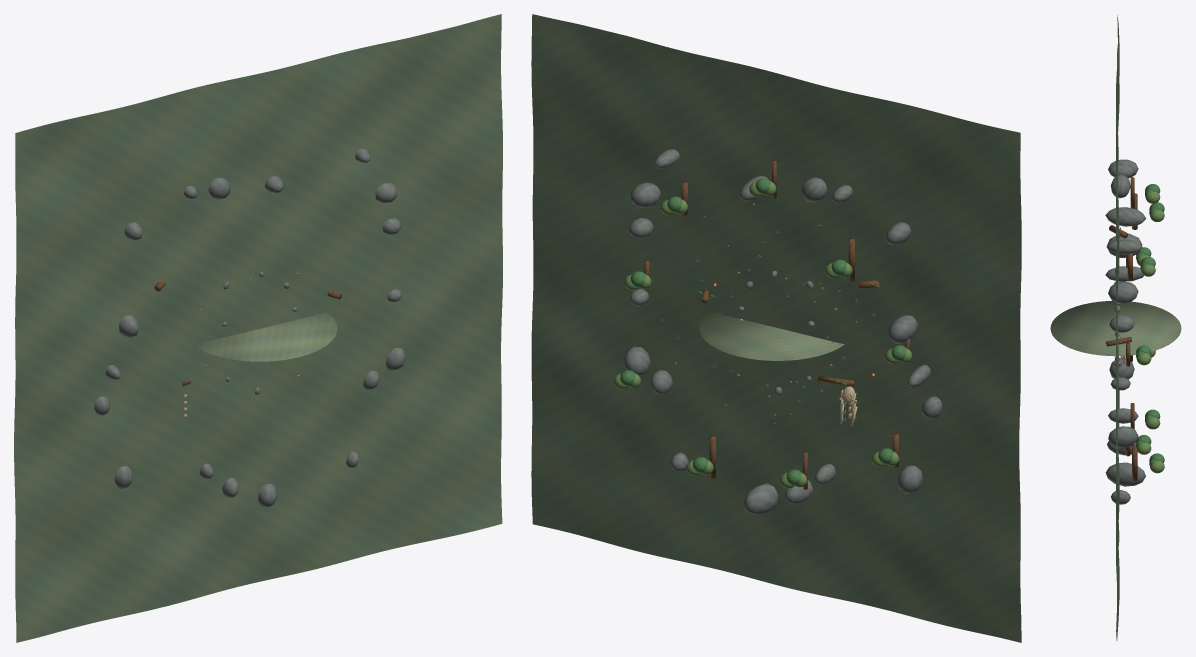
File: hunting_ground.glb
3 views of the same model, side by side, from view 1: azimuth 30°, elevation 25°; view 2: azimuth 150°, elevation 25°; view 3: azimuth 270°, elevation 25° (orthographic). The views are drawn at different scales.
Parts seen in each view (by area): view 1: terrain_ring, arena_soil_disc; view 2: terrain_ring, arena_soil_disc, boulder_14; view 3: arena_soil_disc, terrain_ring, boulder_14, boulder_4, boulder_2, boulder_17, boulder_3, boulder_9, boulder_11, boulder_5, boulder_1, boulder_12 (+3 smaller).
Part boxes in pixels (box(x1,y1,x2,y2)): terrain_ring: box(14, 14, 502, 642); arena_soil_disc: box(192, 312, 337, 361); terrain_ring: box(531, 14, 1021, 642); arena_soil_disc: box(699, 311, 844, 360); boulder_14: box(744, 483, 778, 515); arena_soil_disc: box(1050, 301, 1181, 356); terrain_ring: box(1116, 15, 1119, 640); boulder_14: box(1105, 462, 1145, 486); boulder_4: box(1105, 207, 1145, 226); boulder_2: box(1108, 281, 1138, 303); boulder_17: box(1108, 426, 1138, 448); boulder_3: box(1106, 239, 1142, 253); boulder_9: box(1105, 266, 1143, 281); boulder_11: box(1109, 357, 1134, 379); boulder_5: box(1110, 174, 1130, 198); boulder_1: box(1109, 315, 1134, 332); boulder_12: box(1108, 408, 1138, 423).
Bounding box in the file's own units: 112 × 112 × 31.
9 materials, 9 textured.
